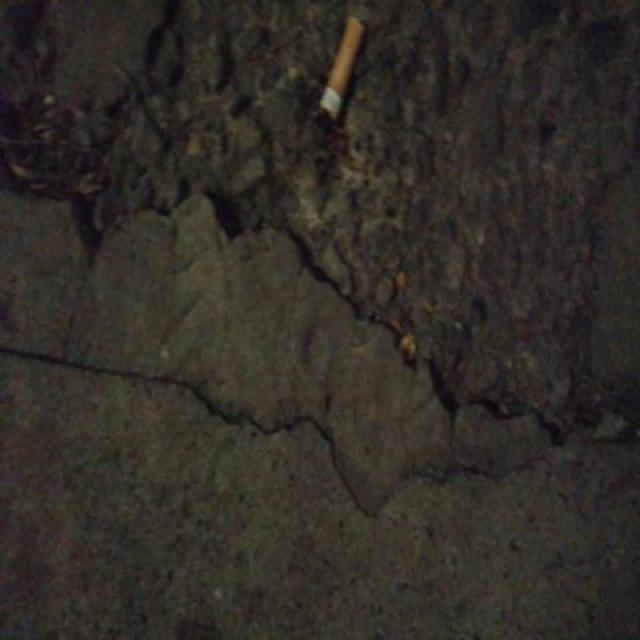non-organic waste: (316, 11, 371, 125)
